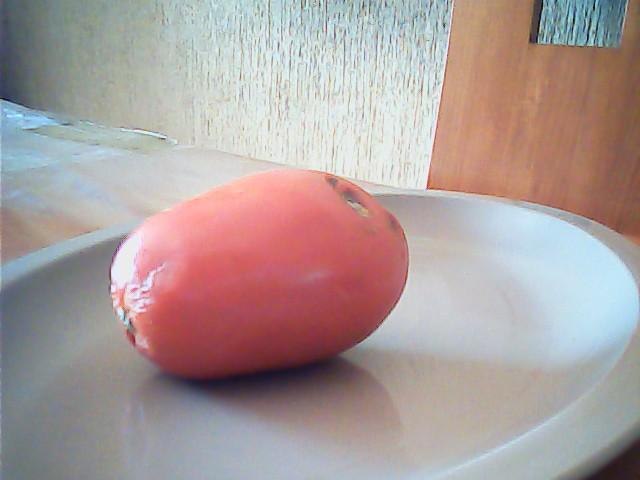defectuoso: (107, 168, 410, 383)
